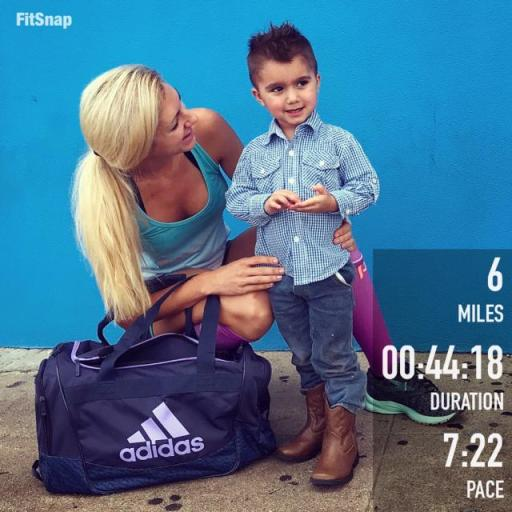Adidas: (118, 396, 205, 462)
